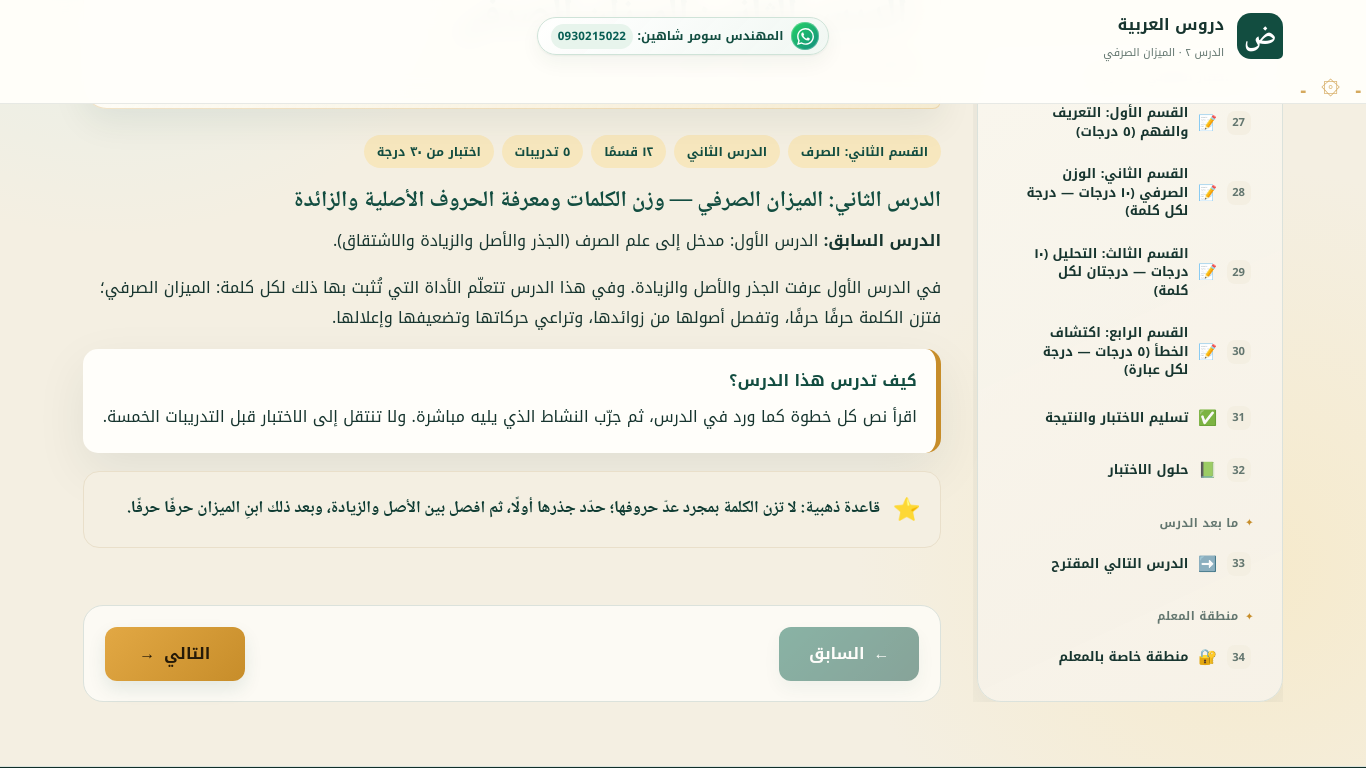
Scenario: Morphology Lesson 02 — Interactive Flow & Navigation › points from the next-lesson step to the existing lesson 3, without the stale "not built yet" wording
(page scrolled)
Step 1. Click the button "33 ➡️ الدرس التالي المقترح" → [1130, 564], box [998,540,1262,588]
(page scrolled)
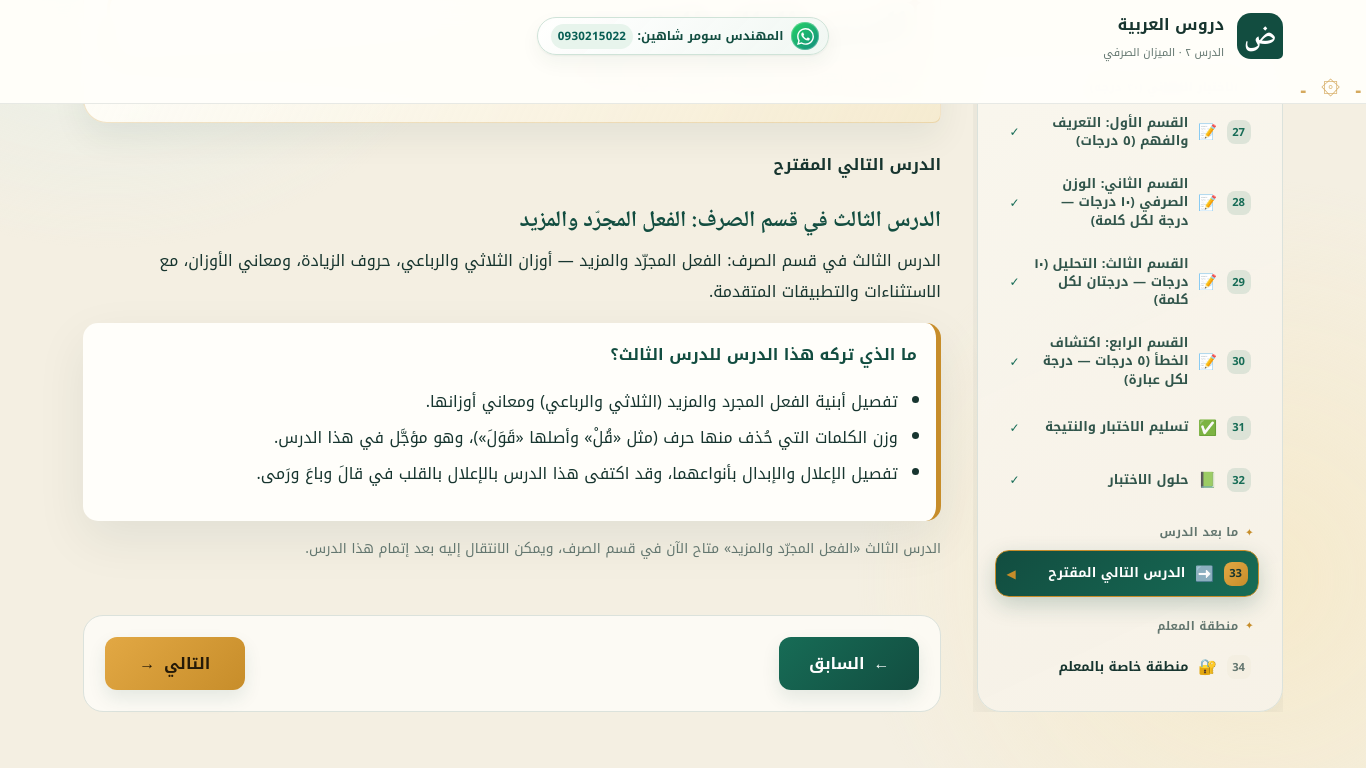
Now the text "الدرس الثالث في قسم الصرف: الفعل المجرّد والمزيد" is shown, box [519,202,941,240]
Now the text "متاح الآن في قسم الصرف" is shown, box [305,535,941,561]
